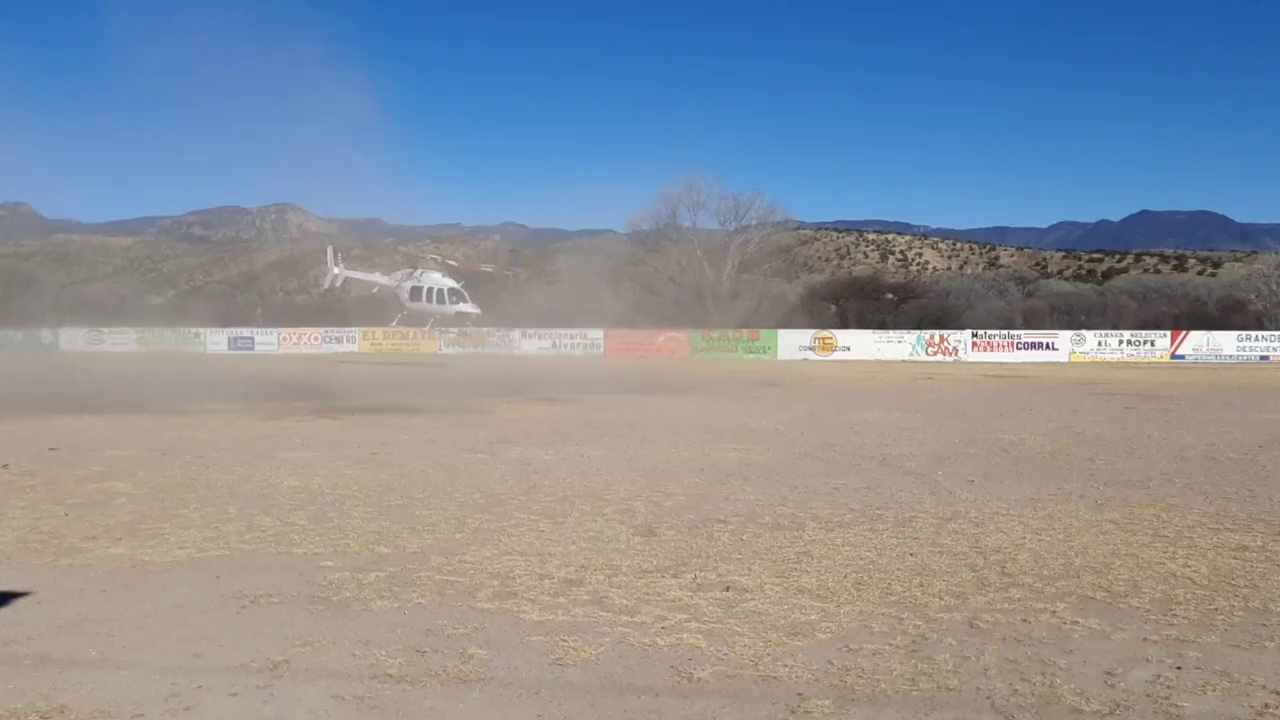heli: (319, 243, 486, 335)
